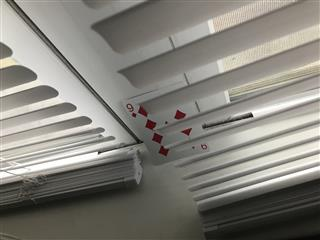NineOfDiamonds: (121, 80, 210, 165)
